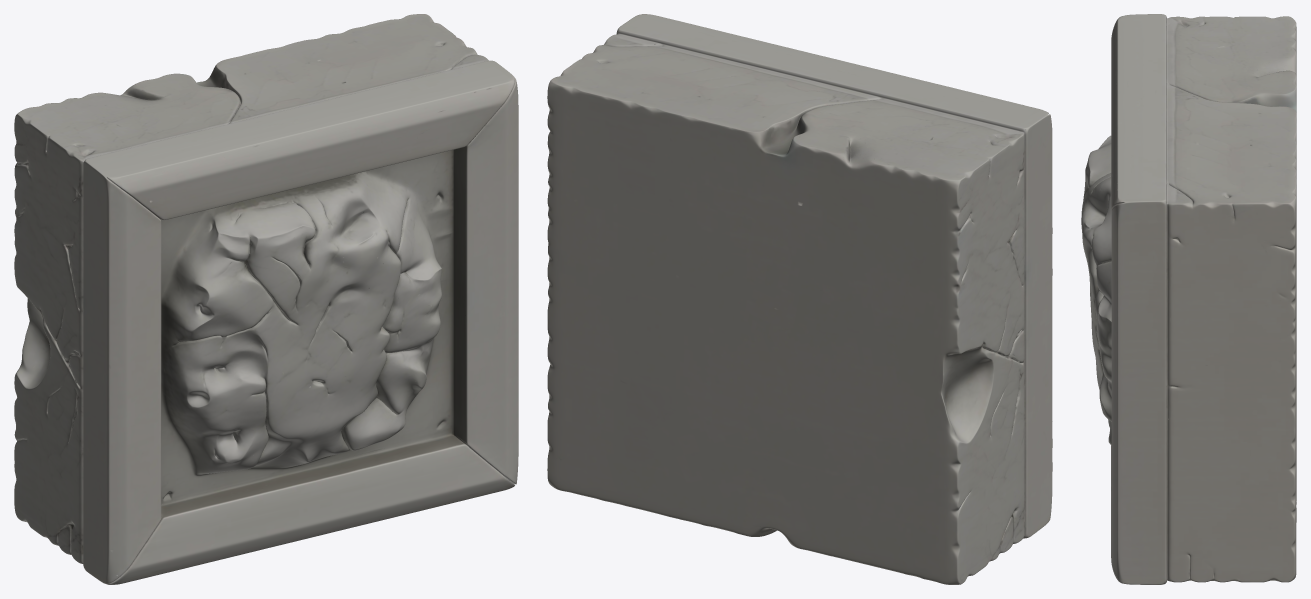
File: Ashlar_Stone_opt.glb
3 views of the same model, side by side, from view 1: azimuth 30°, elevation 25°; view 2: azimuth 150°, elevation 25°; view 3: azimuth 270°, elevation 25° (orthographic). The views are drawn at different scales.
Visible parts, largest first — view 1: material; view 2: material; view 3: material.
Part boxes in pixels (box(x1,y1,x2,y2)): material: box(14, 14, 518, 584); material: box(547, 14, 1052, 584); material: box(1081, 14, 1296, 584).
Size of the model in its own units: 0.8317 by 0.7936 by 0.4031.
Materials: 1 (1 with a texture image).
